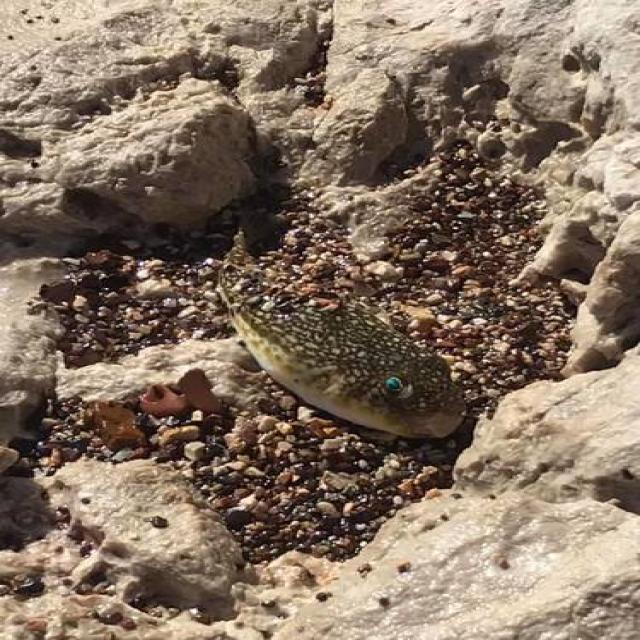Balik: (219, 235, 464, 437)
